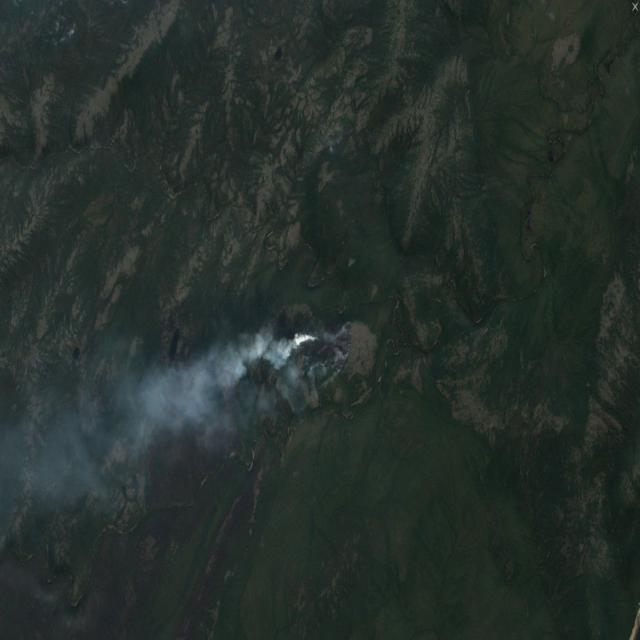fire: (296, 316, 356, 382)
